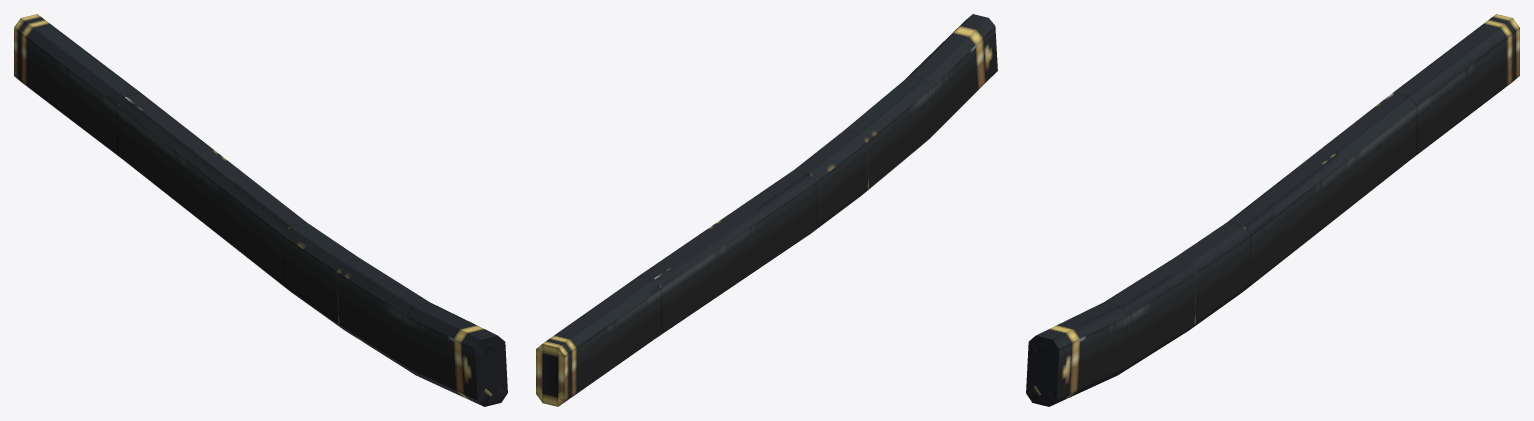
File: enhanced_katana_sheath.obj
The picture shows the model from 3 angles, left to right: view 1: azimuth 30°, elevation 25°; view 2: azimuth 150°, elevation 25°; view 3: azimuth 330°, elevation 25°; orthographic projection. The views are drawn at different scales.
Parts seen in each view (by area): view 1: katana_sheath; view 2: katana_sheath; view 3: katana_sheath.
Part boxes in pixels (x1,y1,x2,y2): katana_sheath: [14, 14, 507, 406]; katana_sheath: [536, 14, 997, 406]; katana_sheath: [1026, 14, 1519, 406].
Bounding box in the file's own units: 0.0823 × 0.2352 × 2.16.
